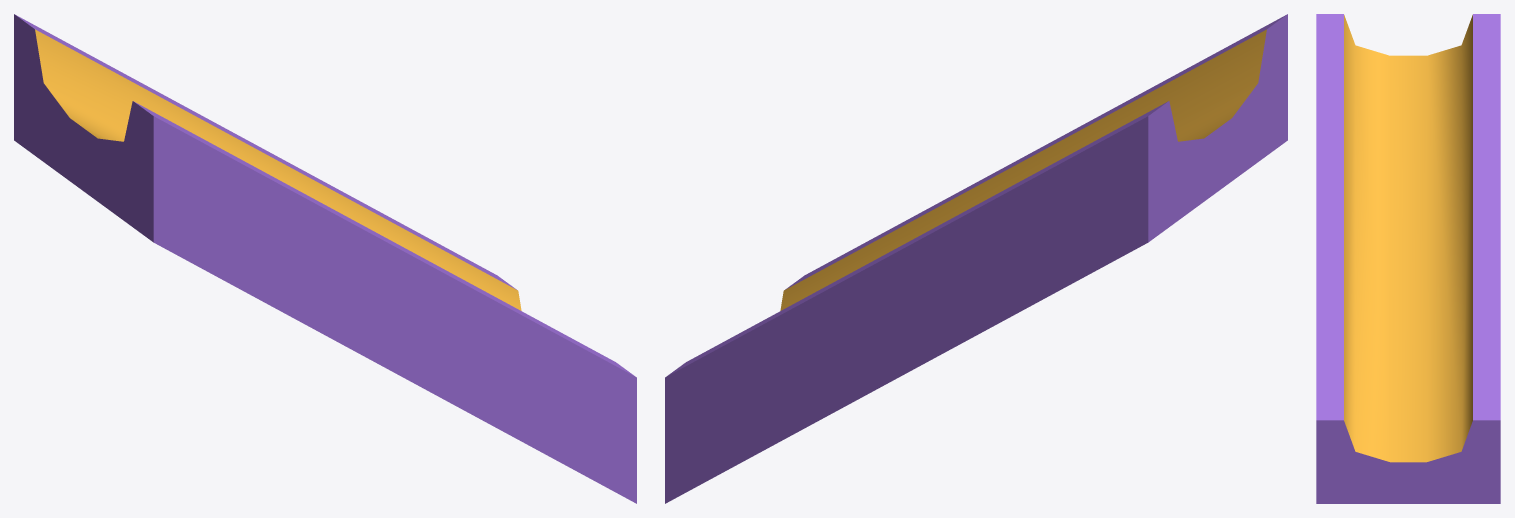
Rendered from slant-long-d-col.glb.
3 views of the same model, side by side, from view 1: azimuth 30°, elevation 25°; view 2: azimuth 150°, elevation 25°; view 3: azimuth 270°, elevation 25° (orthographic). The views are drawn at different scales.
Parts seen in each view (by area): view 1: slant-long-d-col; view 2: slant-long-d-col; view 3: slant-long-d-col.
Part boxes in pixels (left/top/right/bottom): slant-long-d-col: left=14, top=14, right=636, bottom=503; slant-long-d-col: left=665, top=14, right=1287, bottom=503; slant-long-d-col: left=1316, top=14, right=1500, bottom=503.
Size of the model in its own units: 2 by 2 by 1.
1 material, 1 textured.
